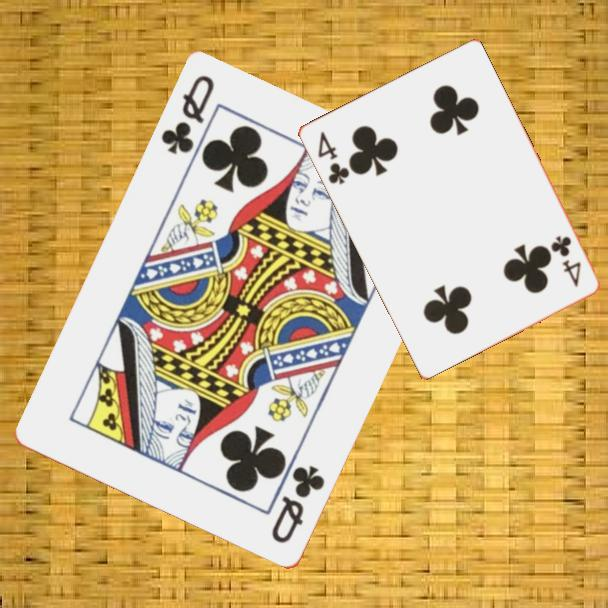c04: (314, 127, 352, 188), (547, 232, 584, 290)
c12: (157, 72, 218, 158), (268, 462, 328, 547)
